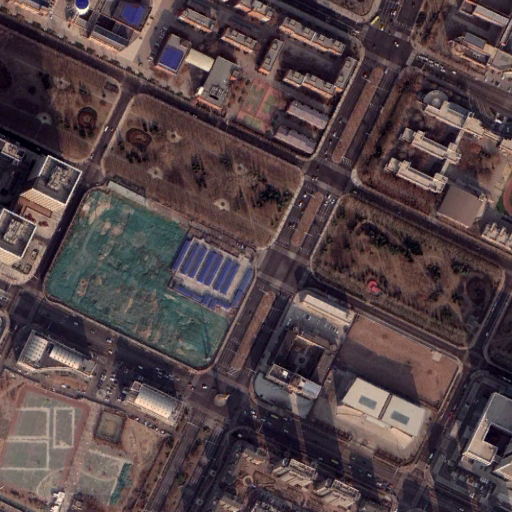cw: (43, 180, 254, 370)
